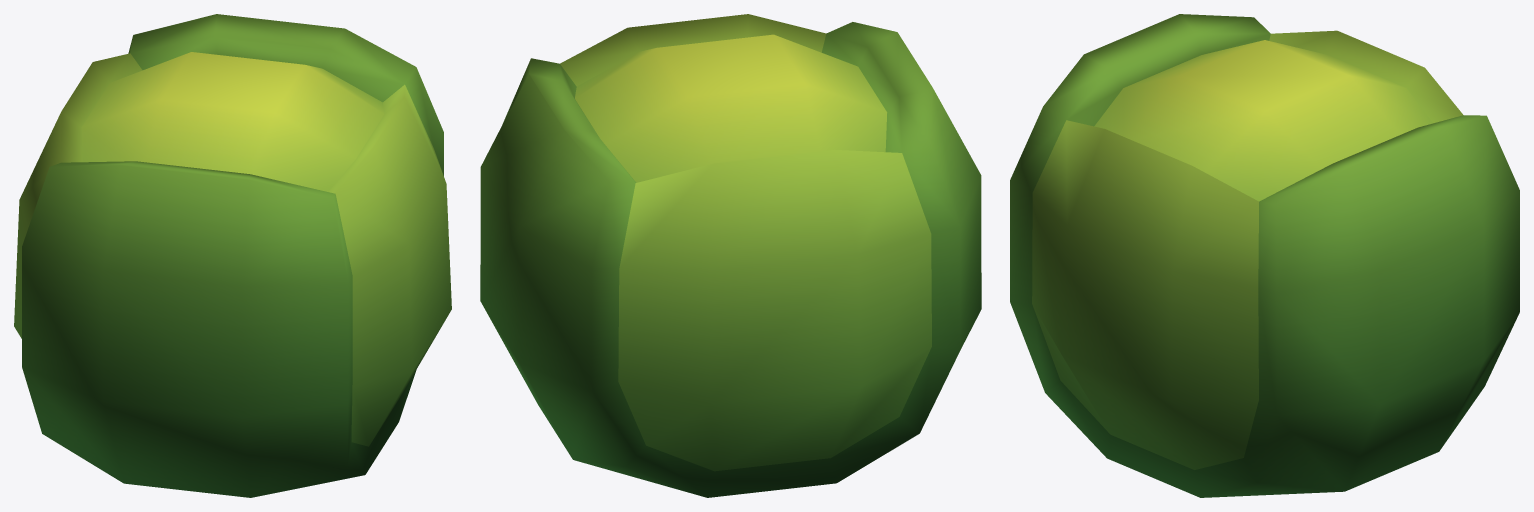
Rendered from Cabbage_02.glb.
3 renders of one model, left to right at view 1: azimuth 30°, elevation 25°; view 2: azimuth 150°, elevation 25°; view 3: azimuth 270°, elevation 25°, orthographic. The views are drawn at different scales.
Parts seen in each view (by area): view 1: Cabbage_02; view 2: Cabbage_02; view 3: Cabbage_02.
Boxes of the visible parts, x1,y1,x2,y2 form: Cabbage_02: [14, 14, 451, 497]; Cabbage_02: [480, 14, 981, 497]; Cabbage_02: [1010, 14, 1519, 497].
Size of the model in its own units: 0.4606 by 0.3726 by 0.4606.
1 material, 1 textured.
